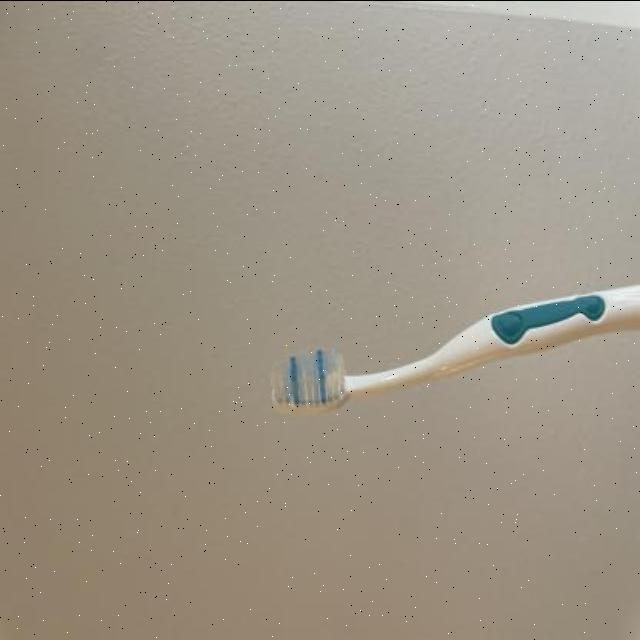toothbrush: (258, 276, 640, 419)
